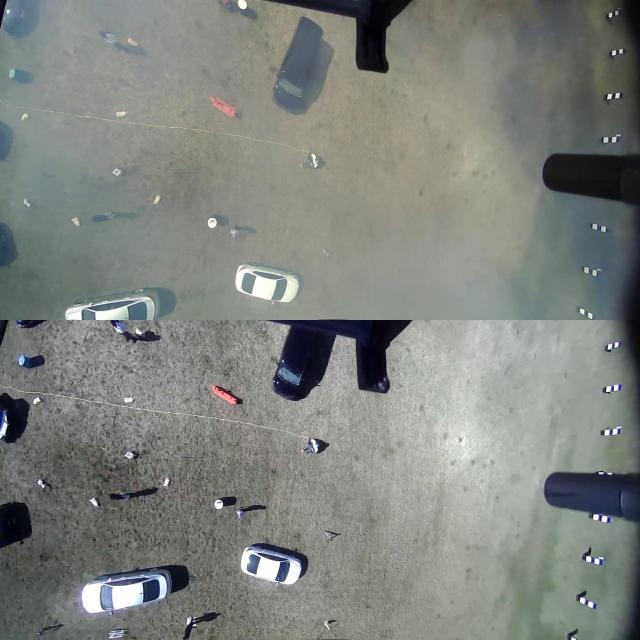car: (264, 16, 322, 118), (72, 565, 183, 616), (268, 312, 328, 405), (51, 280, 174, 322), (235, 536, 314, 594), (229, 260, 321, 308)
